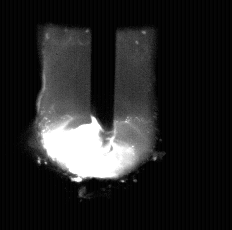arame: (91, 0, 116, 156)
poca: (43, 0, 135, 230)
